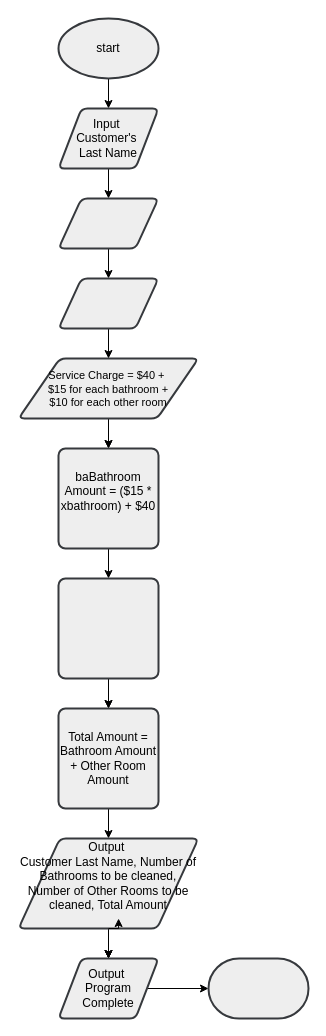
Some shapes in this 326 by 1036 pixel diagram are drawn without their labels. Each missing label, with the centre of its shape:
"Input Number of Bathrooms to be cleaned" belongs at (x=108, y=223).
"Input Number of Other Rooms to be cleaned" belongs at (x=108, y=303).
"Other Room Amount = $10 * xother room" belongs at (x=108, y=628).
"Stop" belongs at (x=258, y=988).
